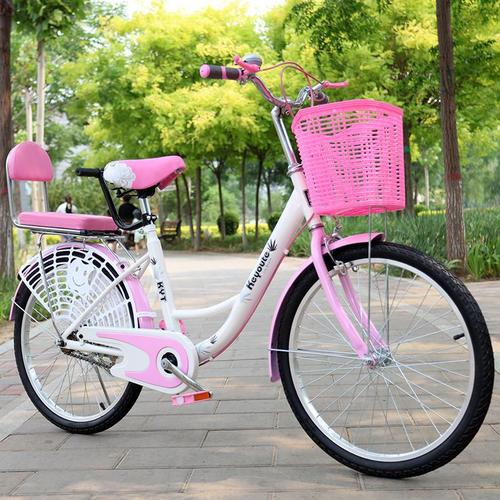单车: (1, 49, 498, 481)
